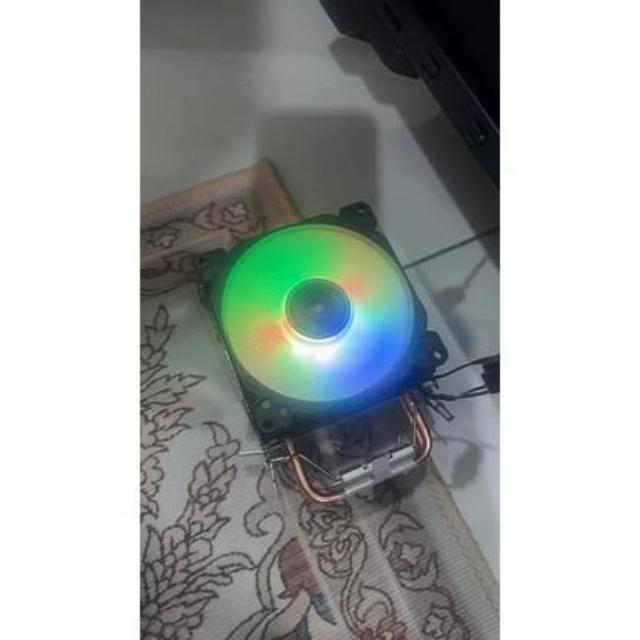CPU_Fan: (191, 195, 454, 507)
